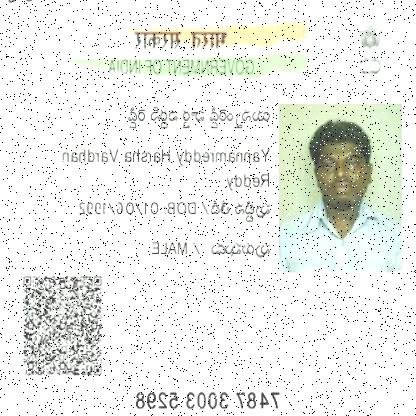aadhaar_card: (1, 0, 415, 415)
